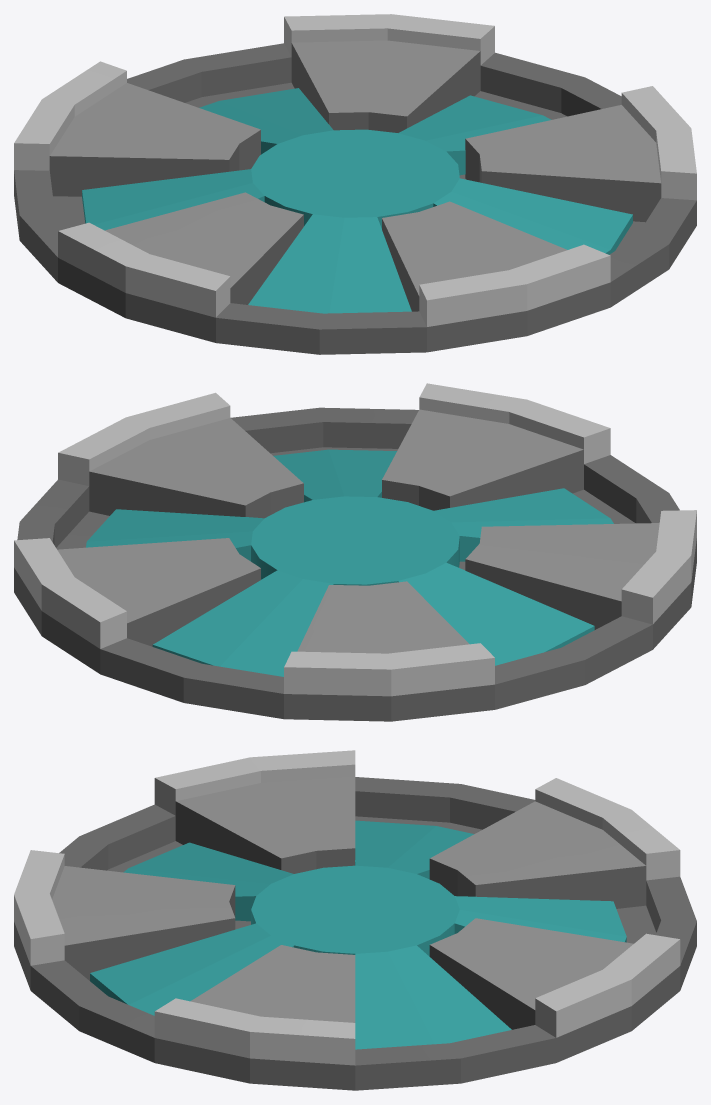
File: teleporter_Raw.fbx
3 renders of one model, top to bottom at view 1: azimuth 30°, elevation 25°; view 2: azimuth 150°, elevation 25°; view 3: azimuth 270°, elevation 25°, orthographic.
Visible parts, largest first — view 1: pCylinder1, pCylinder2; view 2: pCylinder1, pCylinder2; view 3: pCylinder1, pCylinder2.
Part boxes in pixels (x1=…): pCylinder1: x1=14, y1=14, x2=696, y2=354; pCylinder2: x1=82, y1=88, x2=632, y2=313; pCylinder1: x1=14, y1=383, x2=696, y2=721; pCylinder2: x1=86, y1=449, x2=613, y2=676; pCylinder1: x1=14, y1=750, x2=696, y2=1090; pCylinder2: x1=90, y1=820, x2=626, y2=1049.
Bounding box in the file's own units: 2 × 0.2007 × 2.
